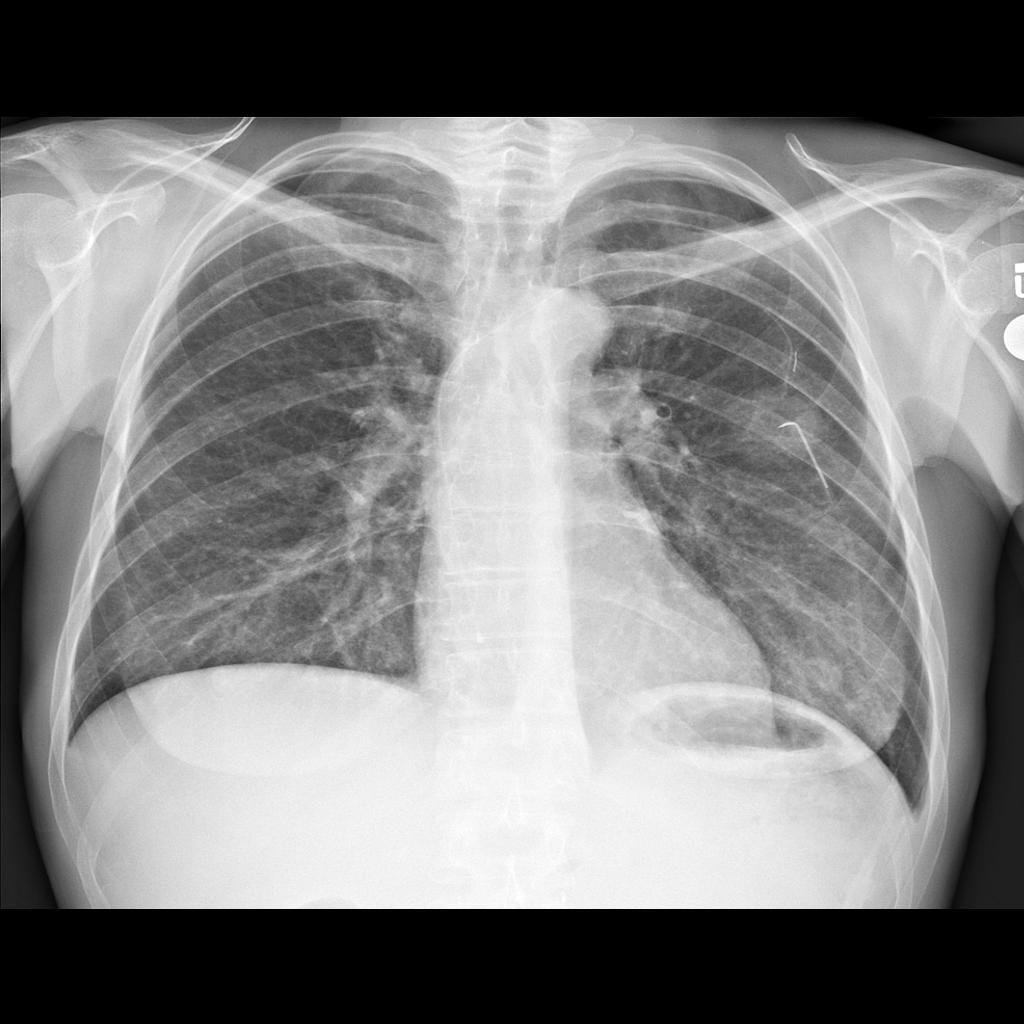Nodule: (721, 377, 843, 477), (798, 649, 852, 701)
